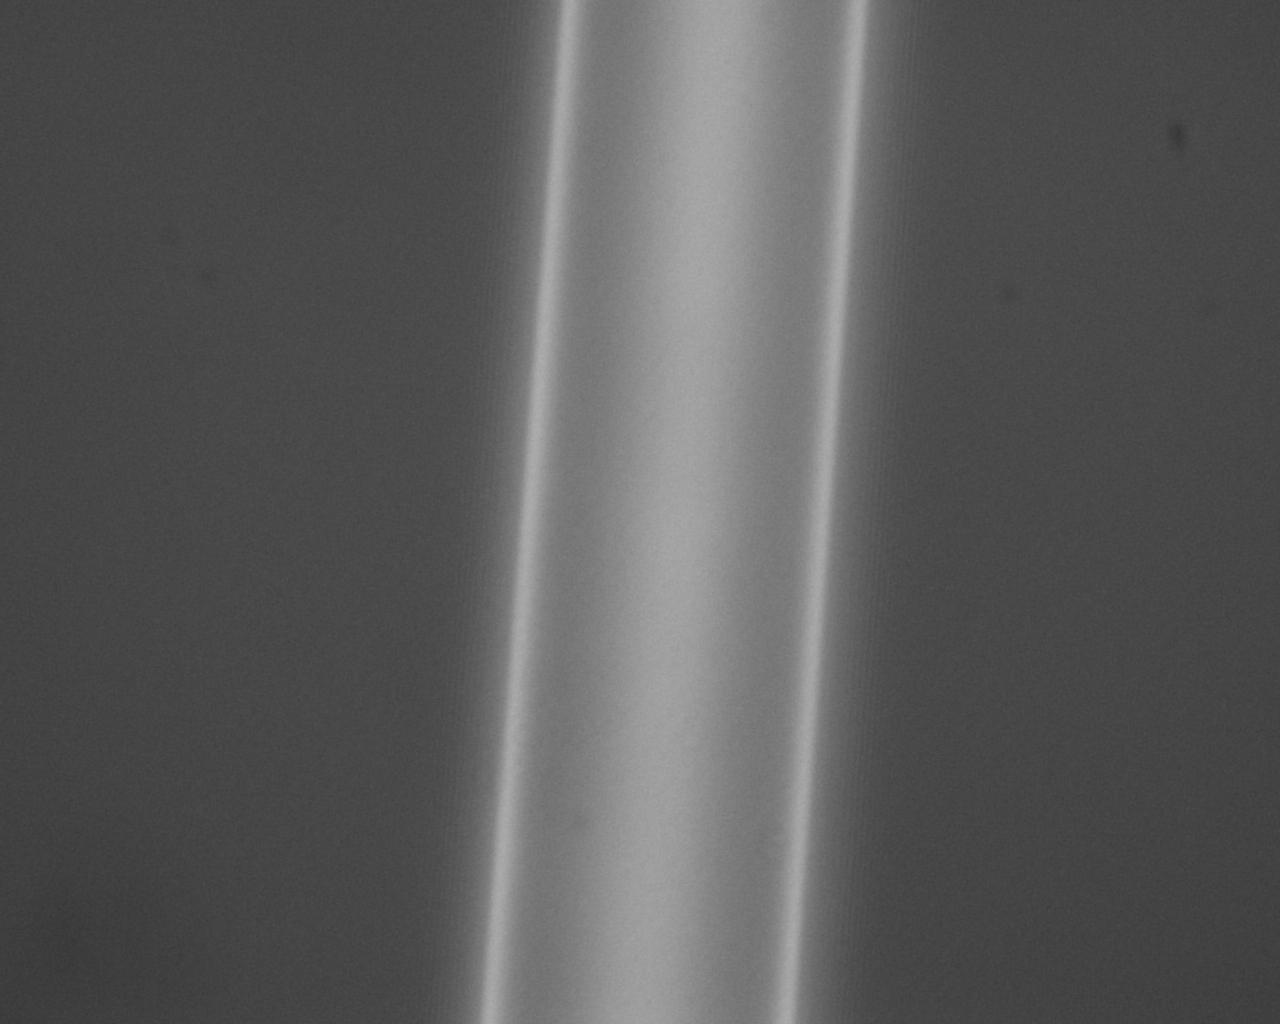fiber: (18, 674, 755, 1024), (0, 129, 751, 334), (755, 409, 1280, 532)
